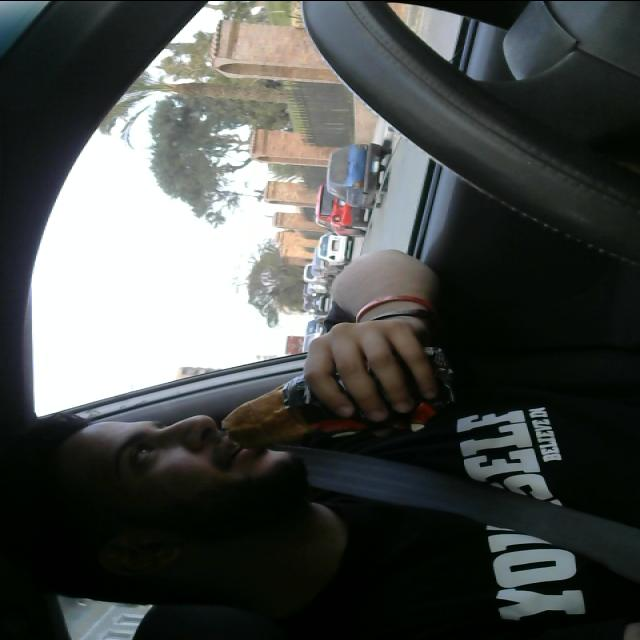eating: (220, 342, 447, 456)
